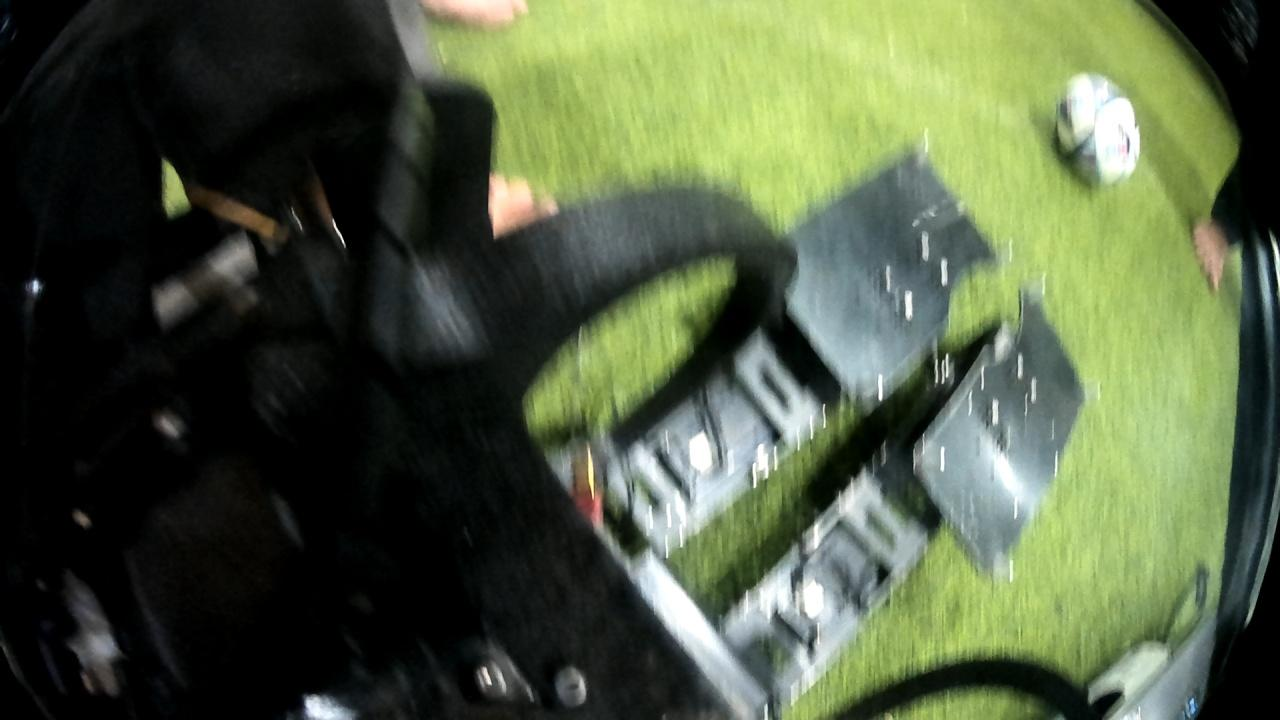ball: (1040, 66, 1145, 193)
